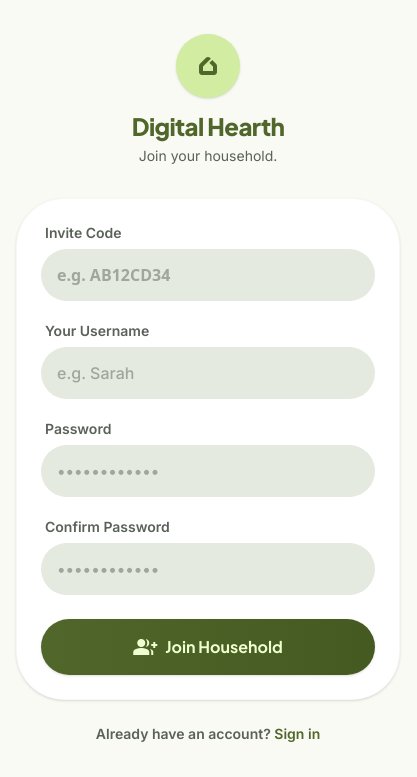
Test: JoinHousehold › shows a validation error when passwords do not match
This screenshot has width=417, height=777.
In the field labelled "Invite Code": (208, 275) [41, 249, 375, 301], type "AB12CD34"
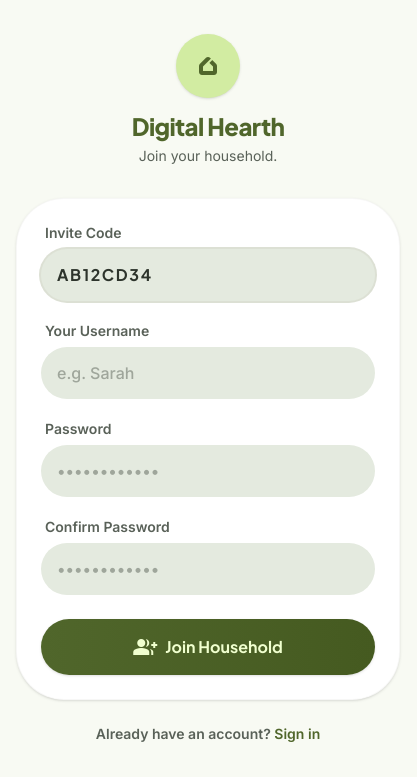
In the field labelled "Your Username": (208, 373) [41, 347, 375, 399], type "Sarah"
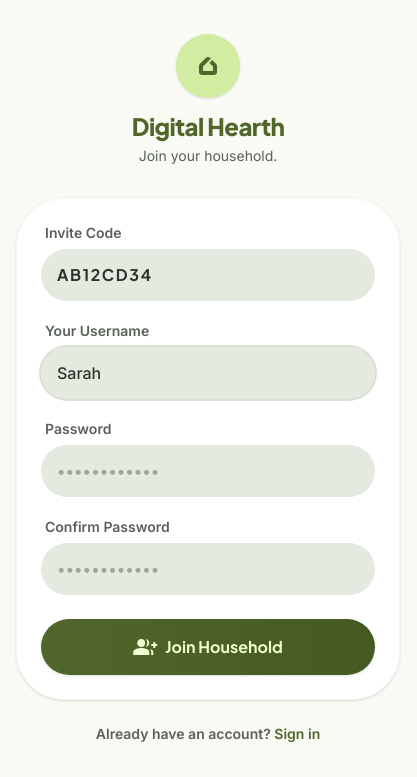
In the password field labelled "Password": (208, 471) [41, 445, 375, 497], type "TestPass1!ab"
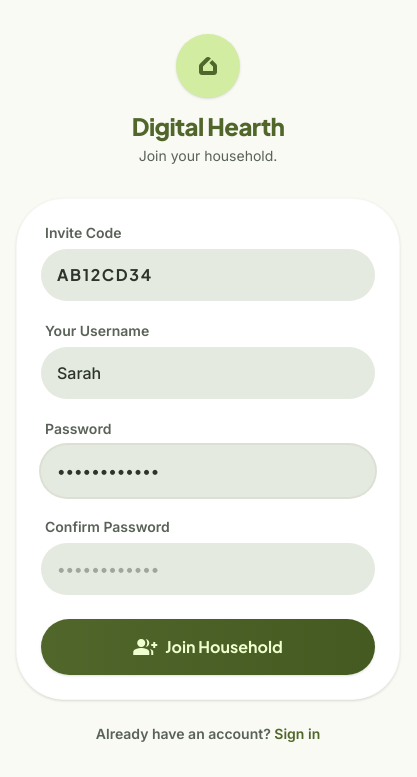
In the password field labelled "Confirm Password": (208, 569) [41, 543, 375, 595], type "DiffPass1!ab"
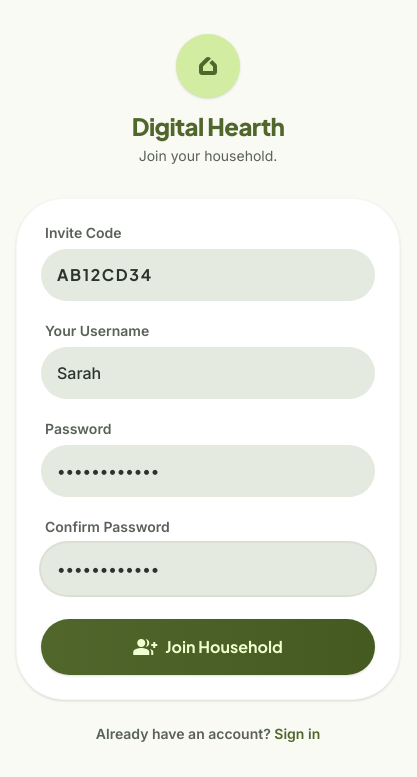
Click the button "Join Household": click(208, 647) [41, 619, 375, 675]
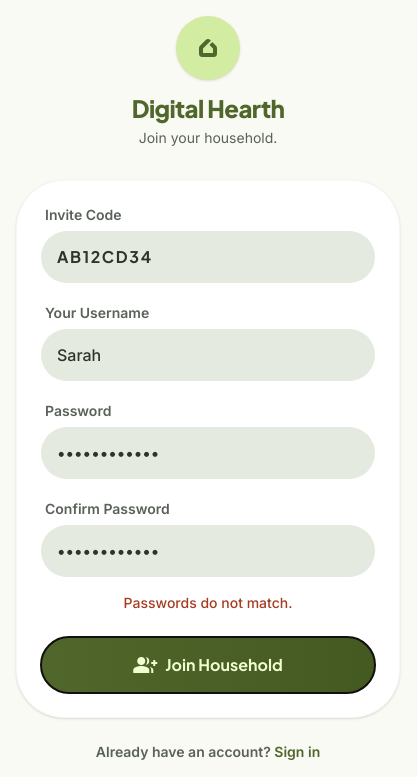
expect the text "Passwords do not match." is shown: met, box [124, 594, 292, 611]
